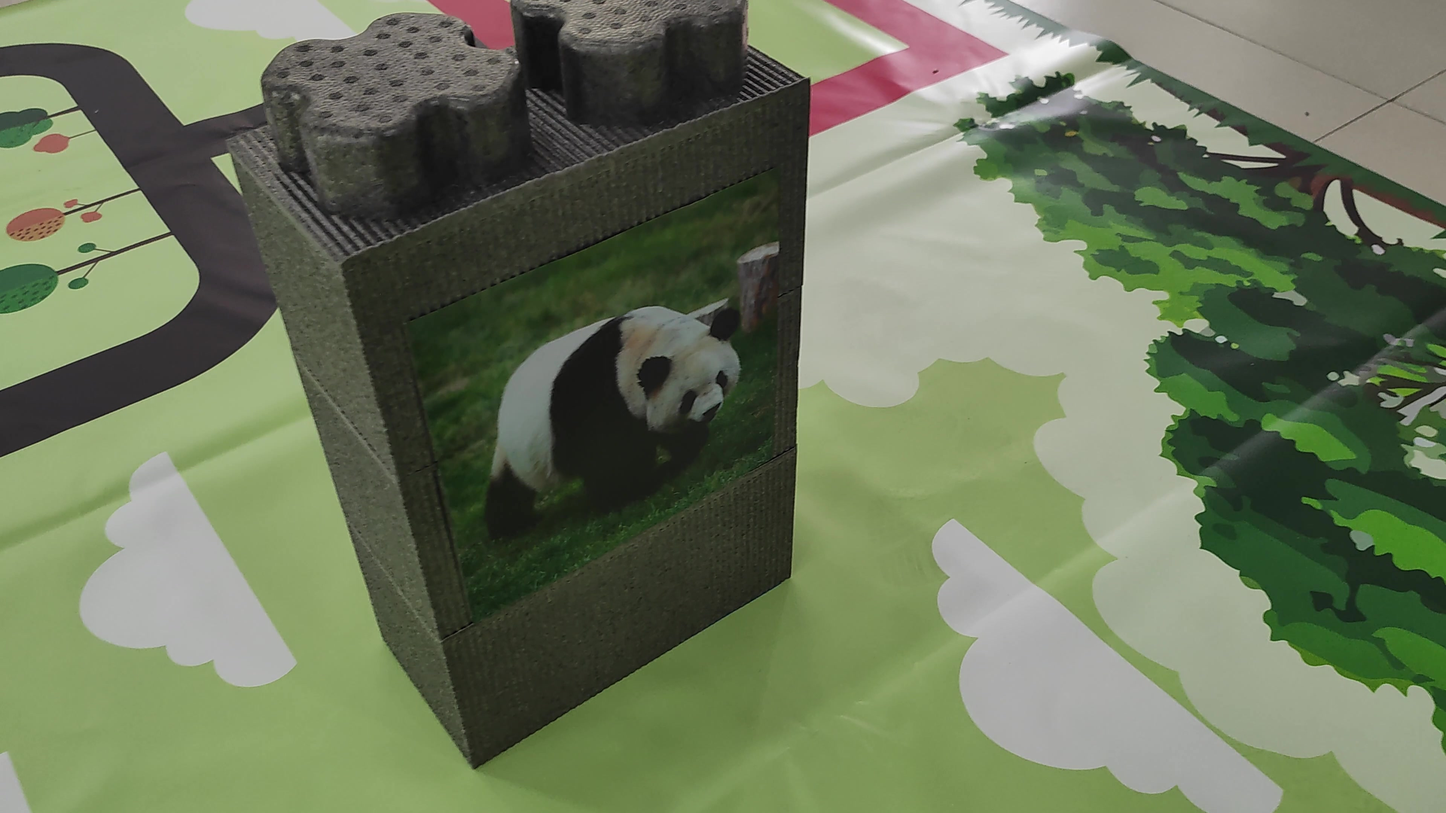panda: (432, 237, 774, 563)
